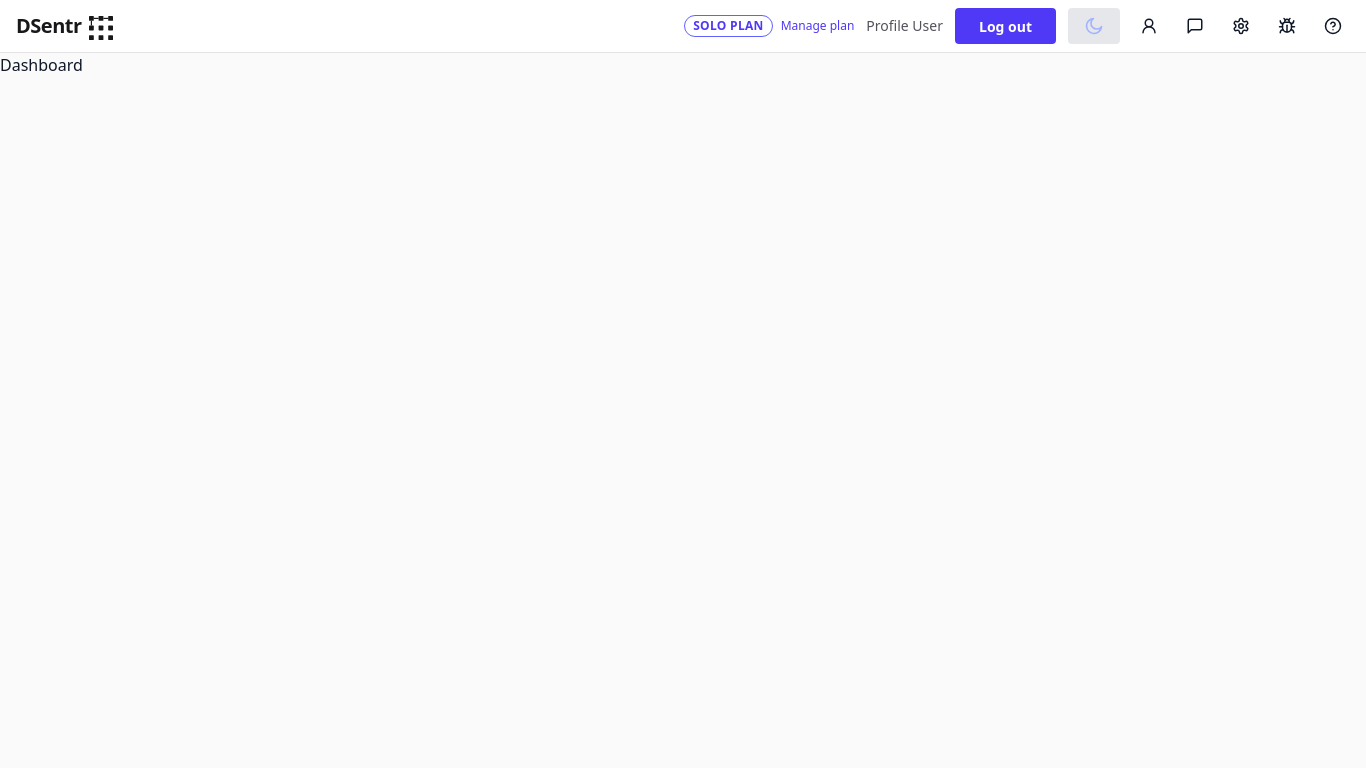
Scenario: DashboardLayout profile modal › opens the profile modal and submits a password change
Click the button named "open profile" at x=1149, y=26, box [1132,9,1166,43]
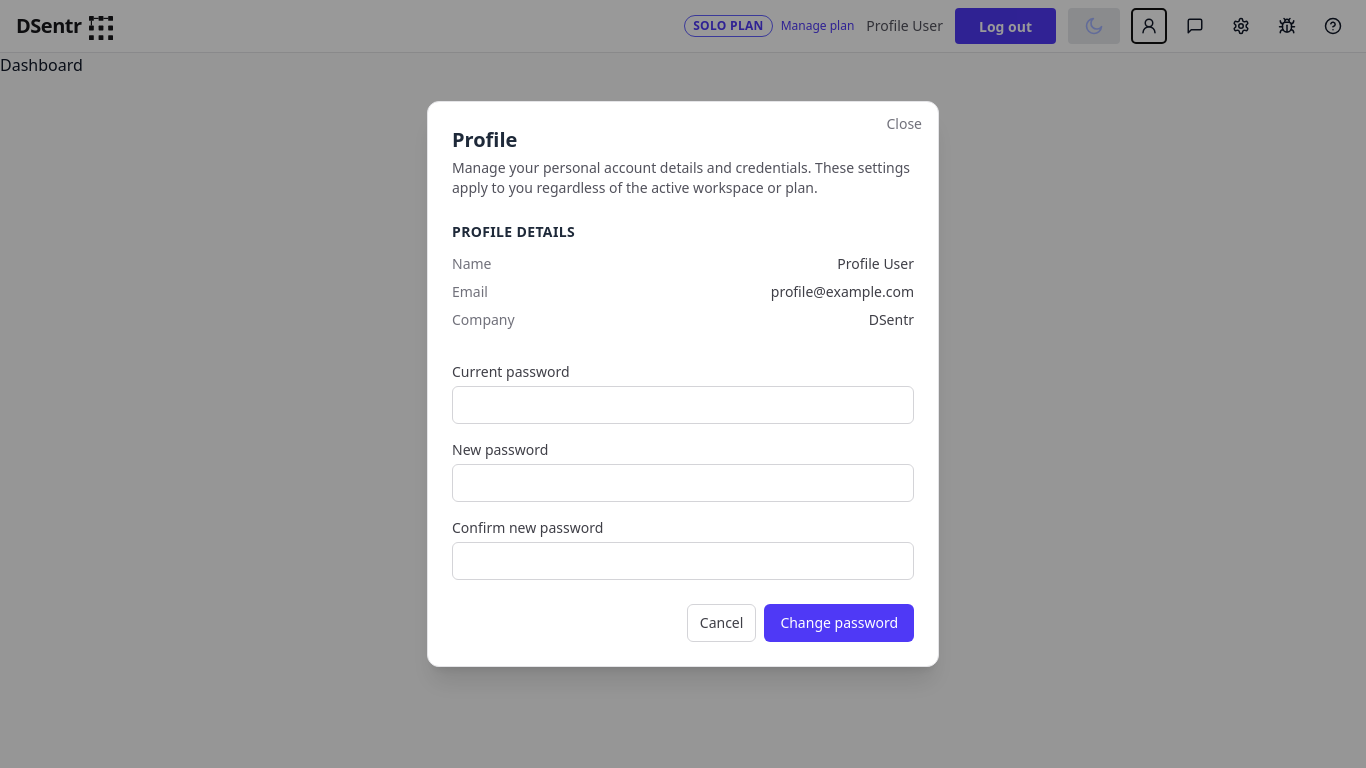
Now the dialog "Profile" is shown, box [427,101,939,667]
Type "old-password" into the password field labelled "Current password" at x=683, y=405, box [452,386,914,424]
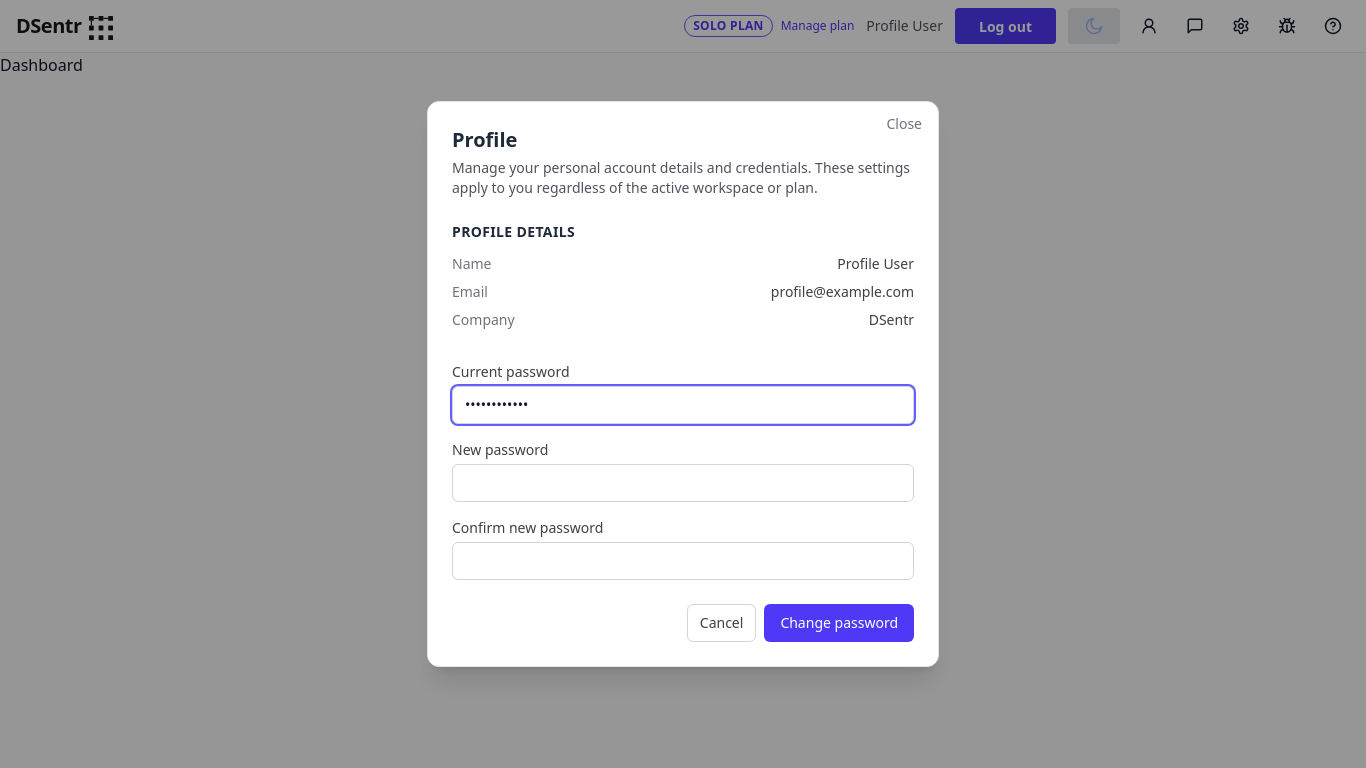
Type "new-password-123" into the password field labelled "New password" at x=683, y=483, box [452,464,914,502]
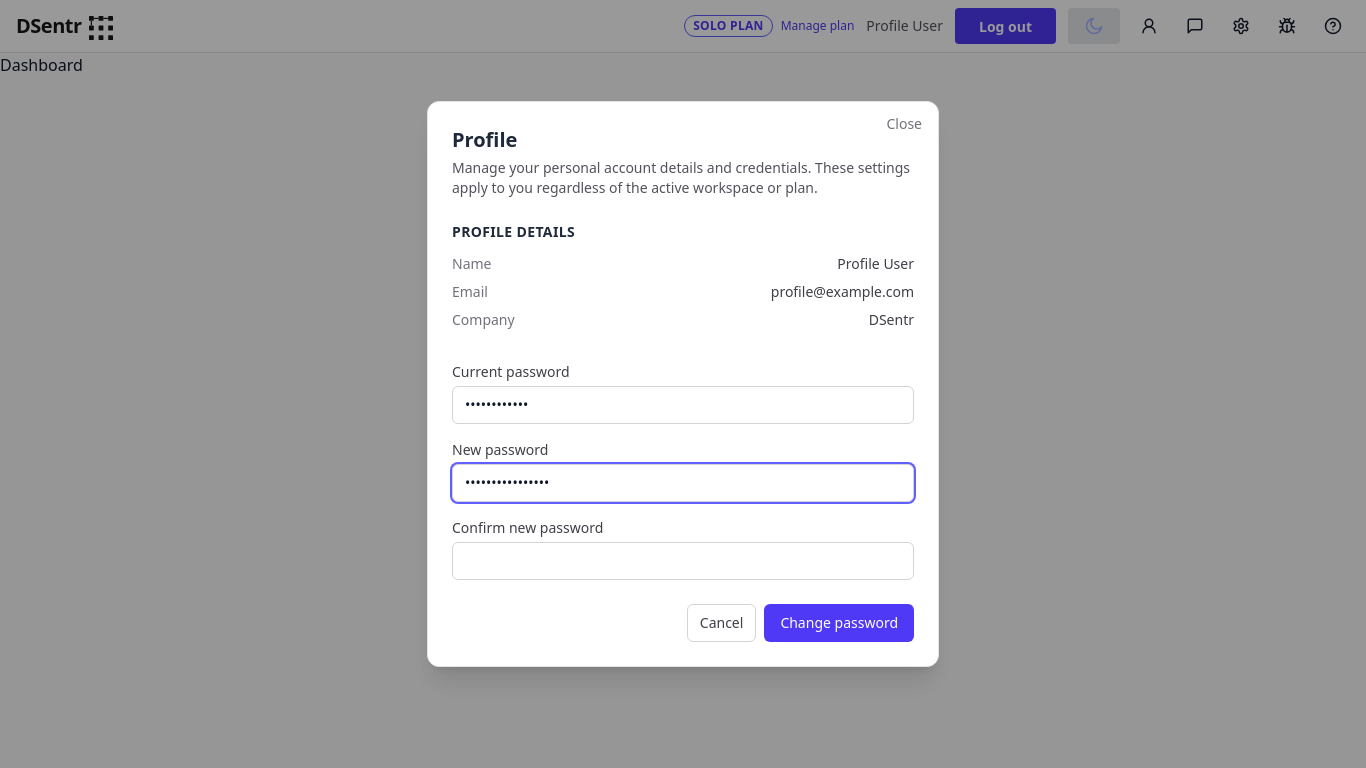
Type "new-password-123" into the password field labelled "Confirm new password" at x=683, y=561, box [452,542,914,580]
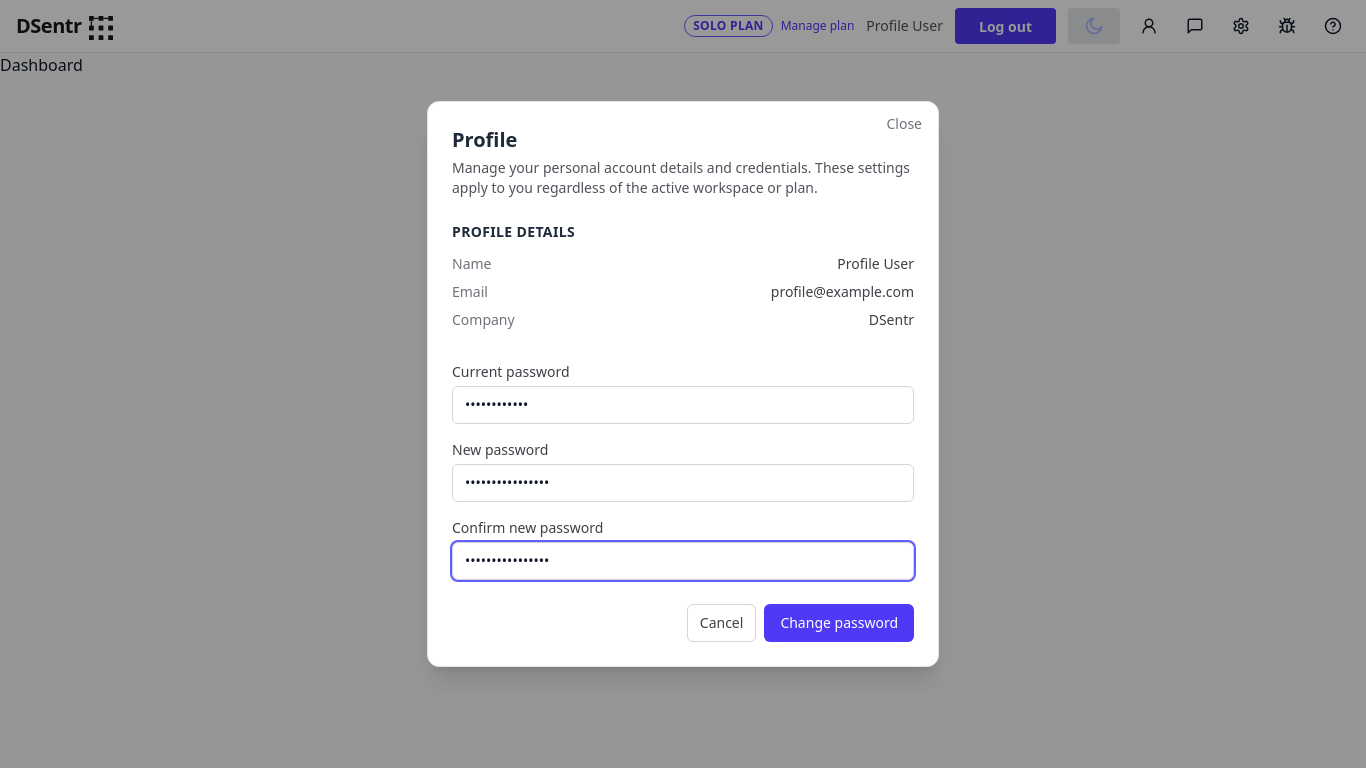
Click the button "Change password" at x=839, y=623, box [764,604,914,642]
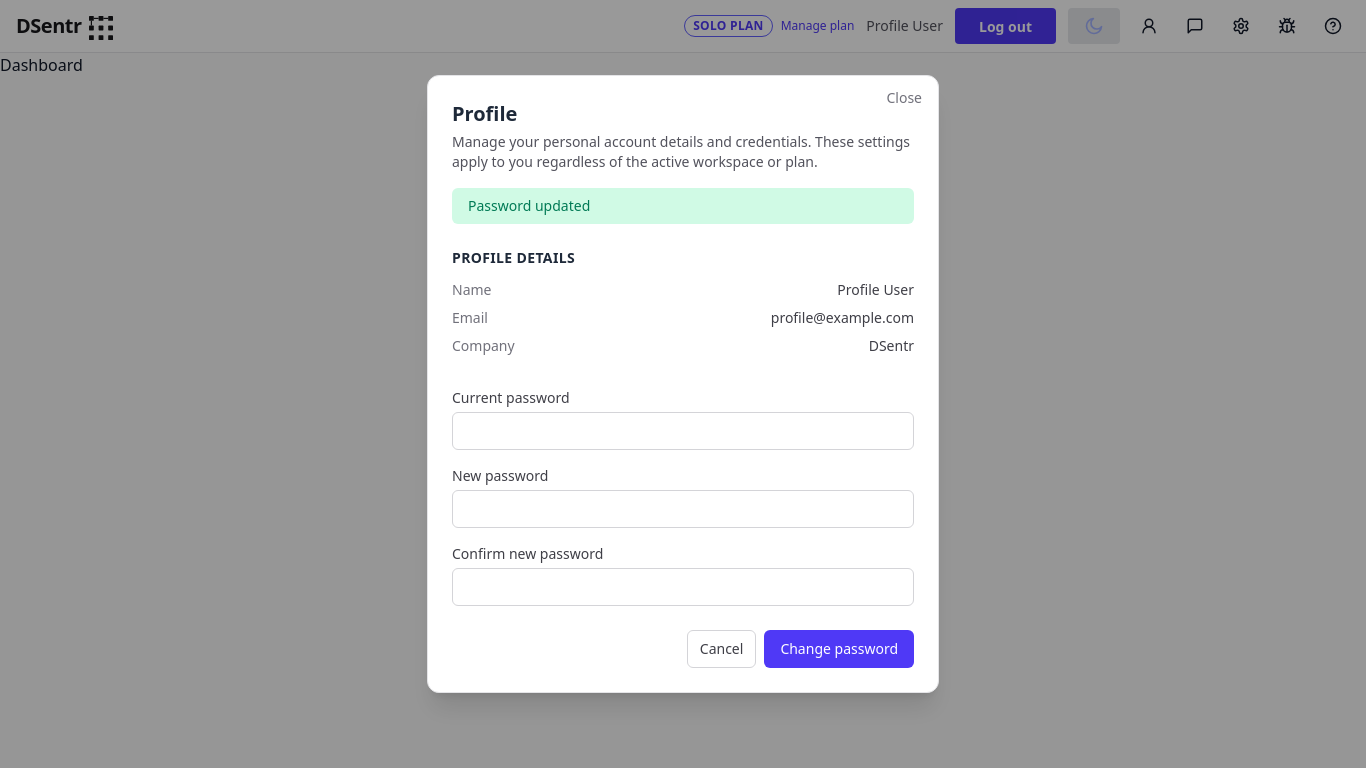
Now the text "Password updated" is shown, box [452,188,914,224]
